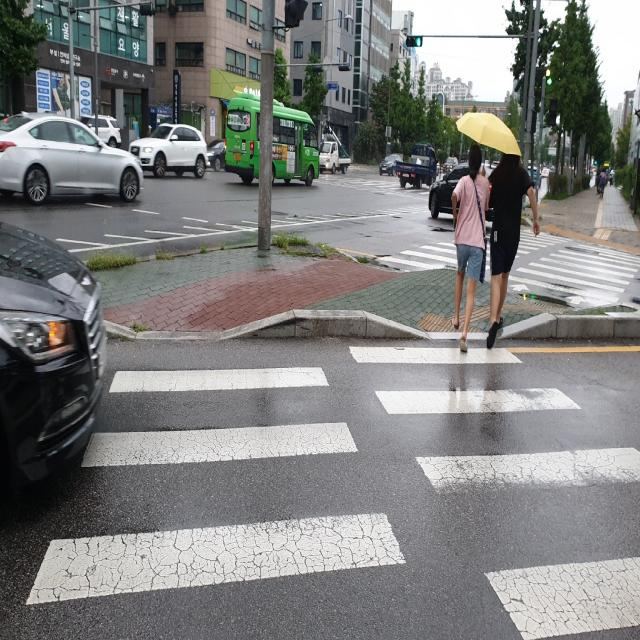횡단보도: (21, 337, 640, 640), (381, 227, 640, 308)
